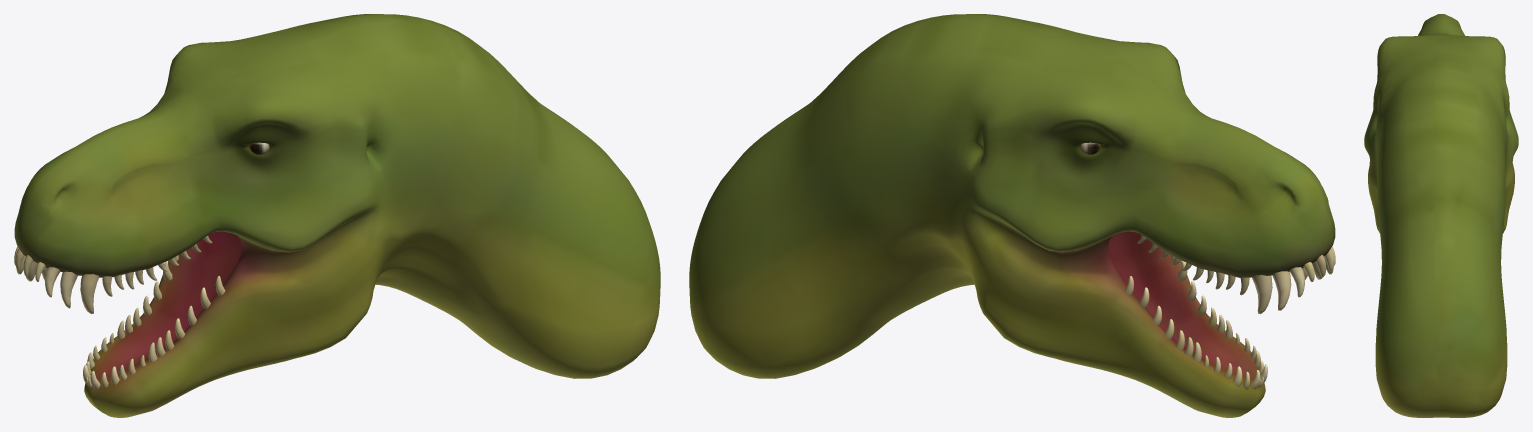
The model's file is Trex_Head_0.FBX.
3 renders of one model, left to right at view 1: azimuth 30°, elevation 25°; view 2: azimuth 150°, elevation 25°; view 3: azimuth 270°, elevation 25°, orthographic. The views are drawn at different scales.
Parts seen in each view (by area): view 1: Trex_Head_0; view 2: Trex_Head_0; view 3: Trex_Head_0.
Part boxes in pixels (x1=…): Trex_Head_0: x1=14, y1=14, x2=660, y2=417; Trex_Head_0: x1=689, y1=14, x2=1335, y2=417; Trex_Head_0: x1=1364, y1=14, x2=1518, y2=417.
Size of the model in its own units: 3.01 by 1.79 by 0.9267.
